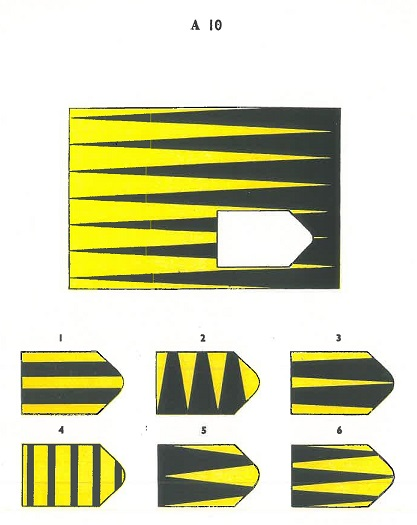Array 1: (16, 329, 127, 418)
Array 2: (148, 329, 264, 419)
Array 3: (284, 331, 400, 420)
Array 4: (16, 421, 131, 513)
Array 5: (148, 420, 267, 513)
Array 6: (286, 422, 401, 515)
Matrix: (60, 98, 350, 297)
Matrix Unknown: (213, 207, 316, 267)
